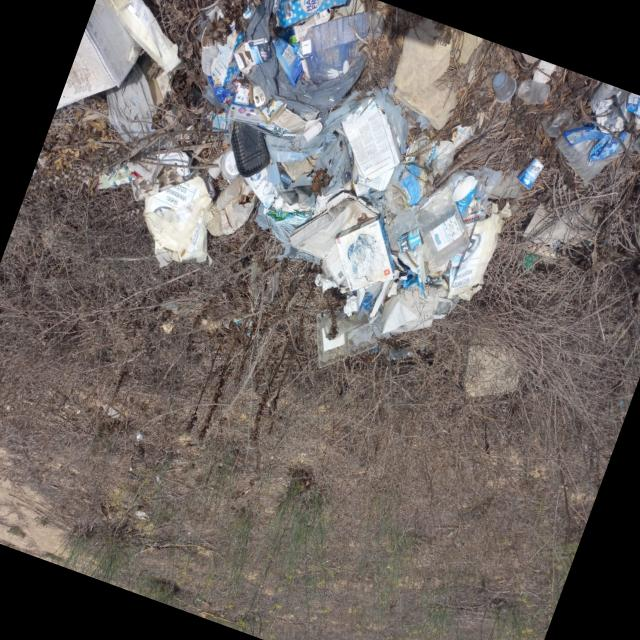Carton: (273, 0, 350, 30), (233, 36, 272, 71)
Other litter: (222, 0, 387, 119), (209, 28, 244, 88), (220, 318, 264, 342), (239, 71, 270, 104), (516, 79, 551, 105), (493, 72, 516, 103)
Other plastic: (55, 0, 524, 369), (541, 82, 640, 182), (516, 157, 546, 189)
Plastic container: (230, 121, 270, 176), (249, 267, 280, 305)
Unlabeled litter: (136, 431, 142, 442)
